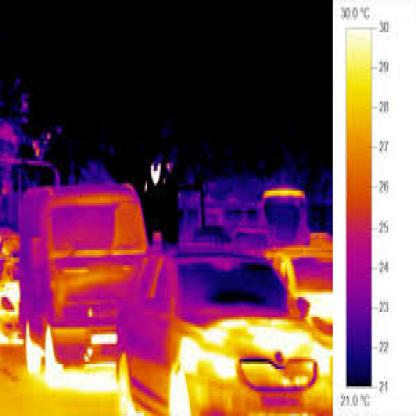Defects: (184, 317, 317, 409), (90, 326, 118, 356), (11, 278, 21, 314)
